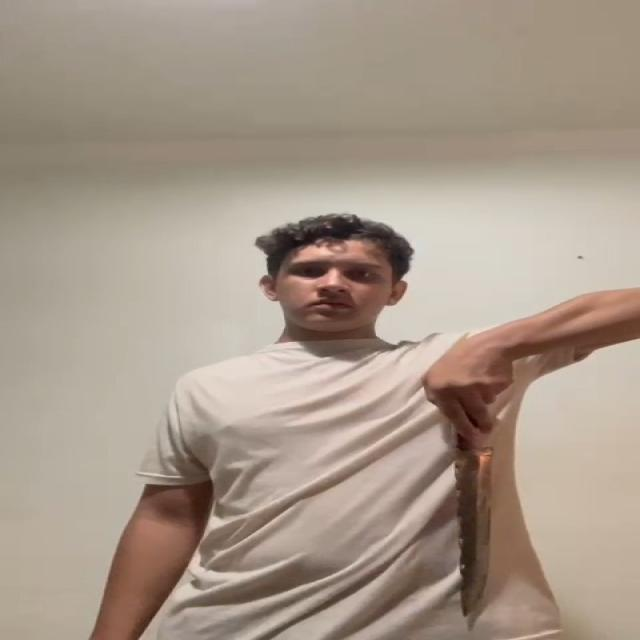knife: (452, 446, 500, 614)
